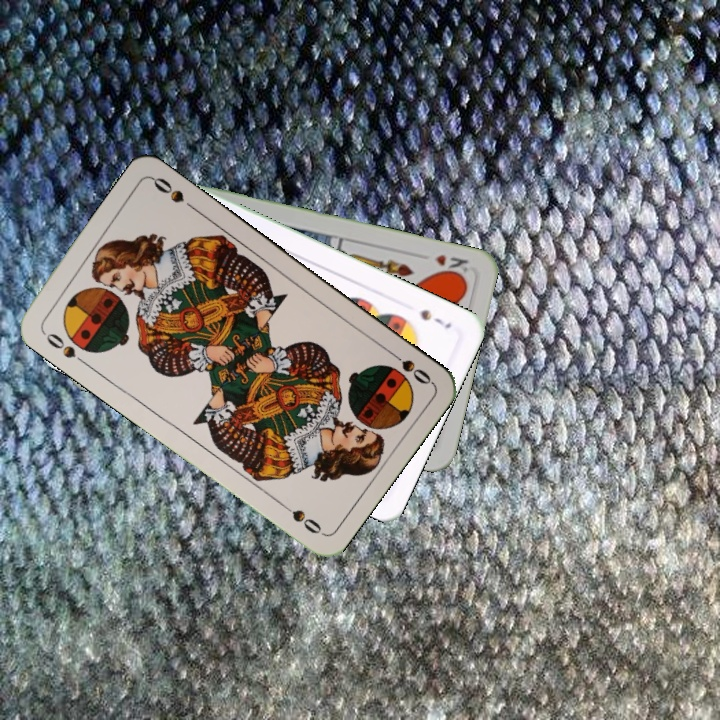HK: (430, 250, 471, 280)
S7: (416, 305, 454, 331)
SO: (383, 345, 434, 388), (38, 326, 89, 367)
